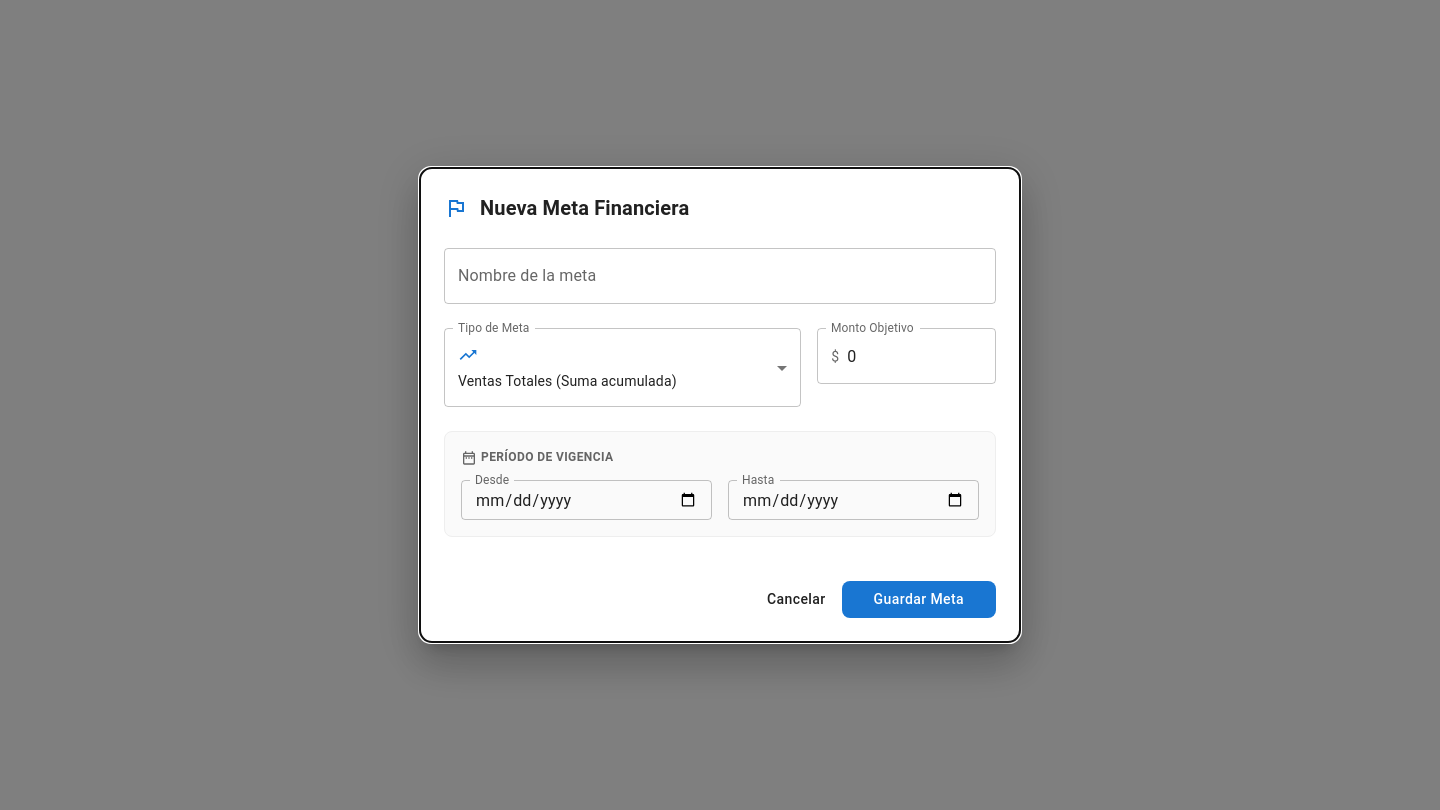
Scenario: TargetModal › muestra validación y no envía si faltan datos
This screenshot has width=1440, height=810.
Step 1. Click the button "Guardar Meta" → (919, 599), box [842, 581, 996, 618]
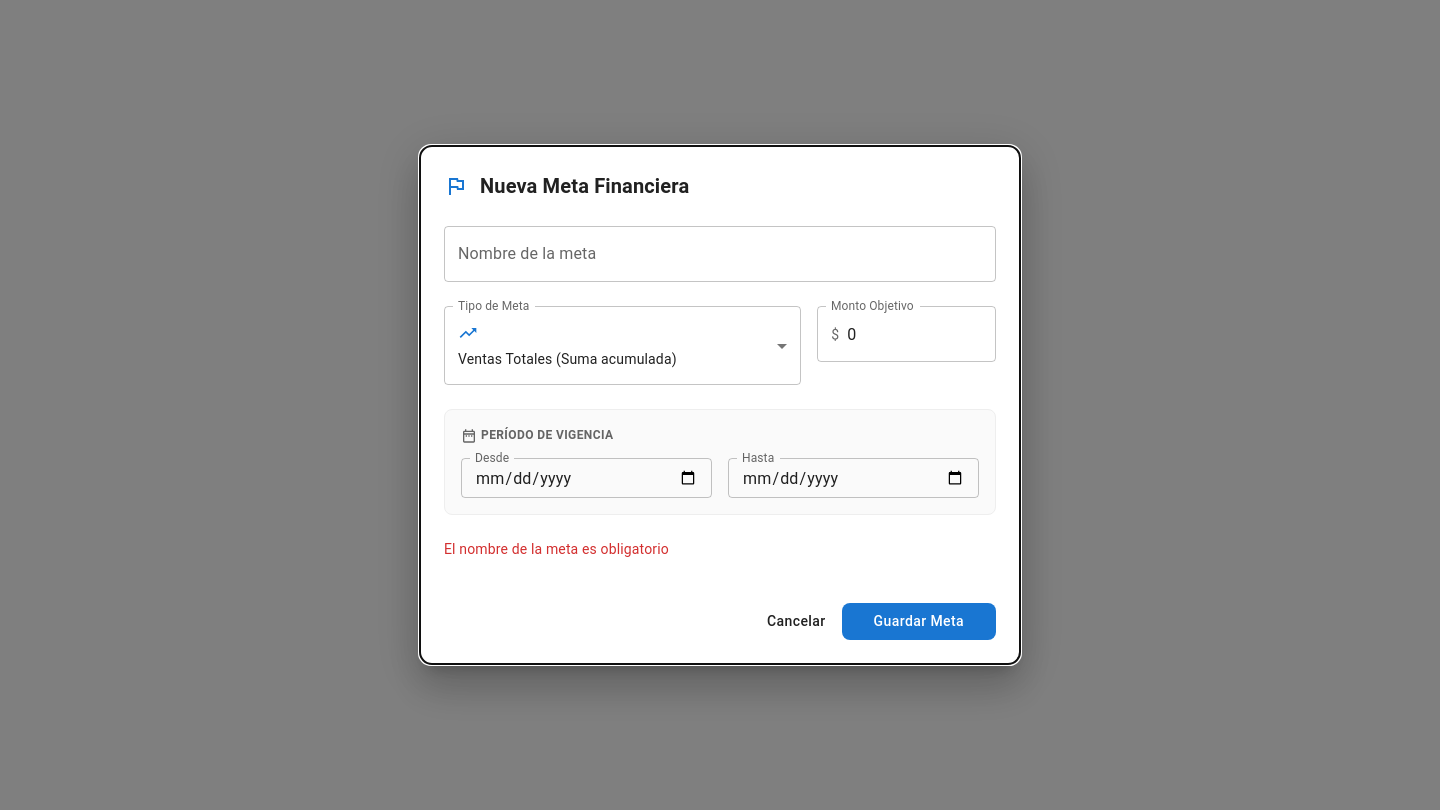
Now the text "El nombre de la meta es obligatorio" is shown, box [444, 541, 669, 557]
